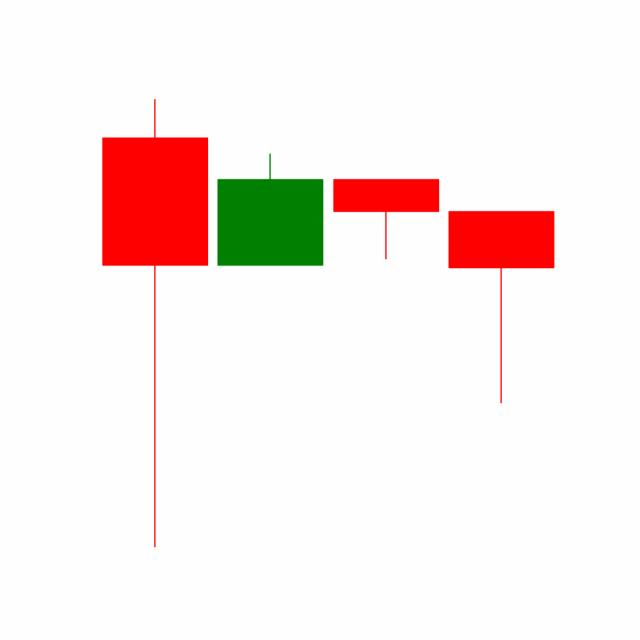Hammer: (328, 177, 444, 260)
